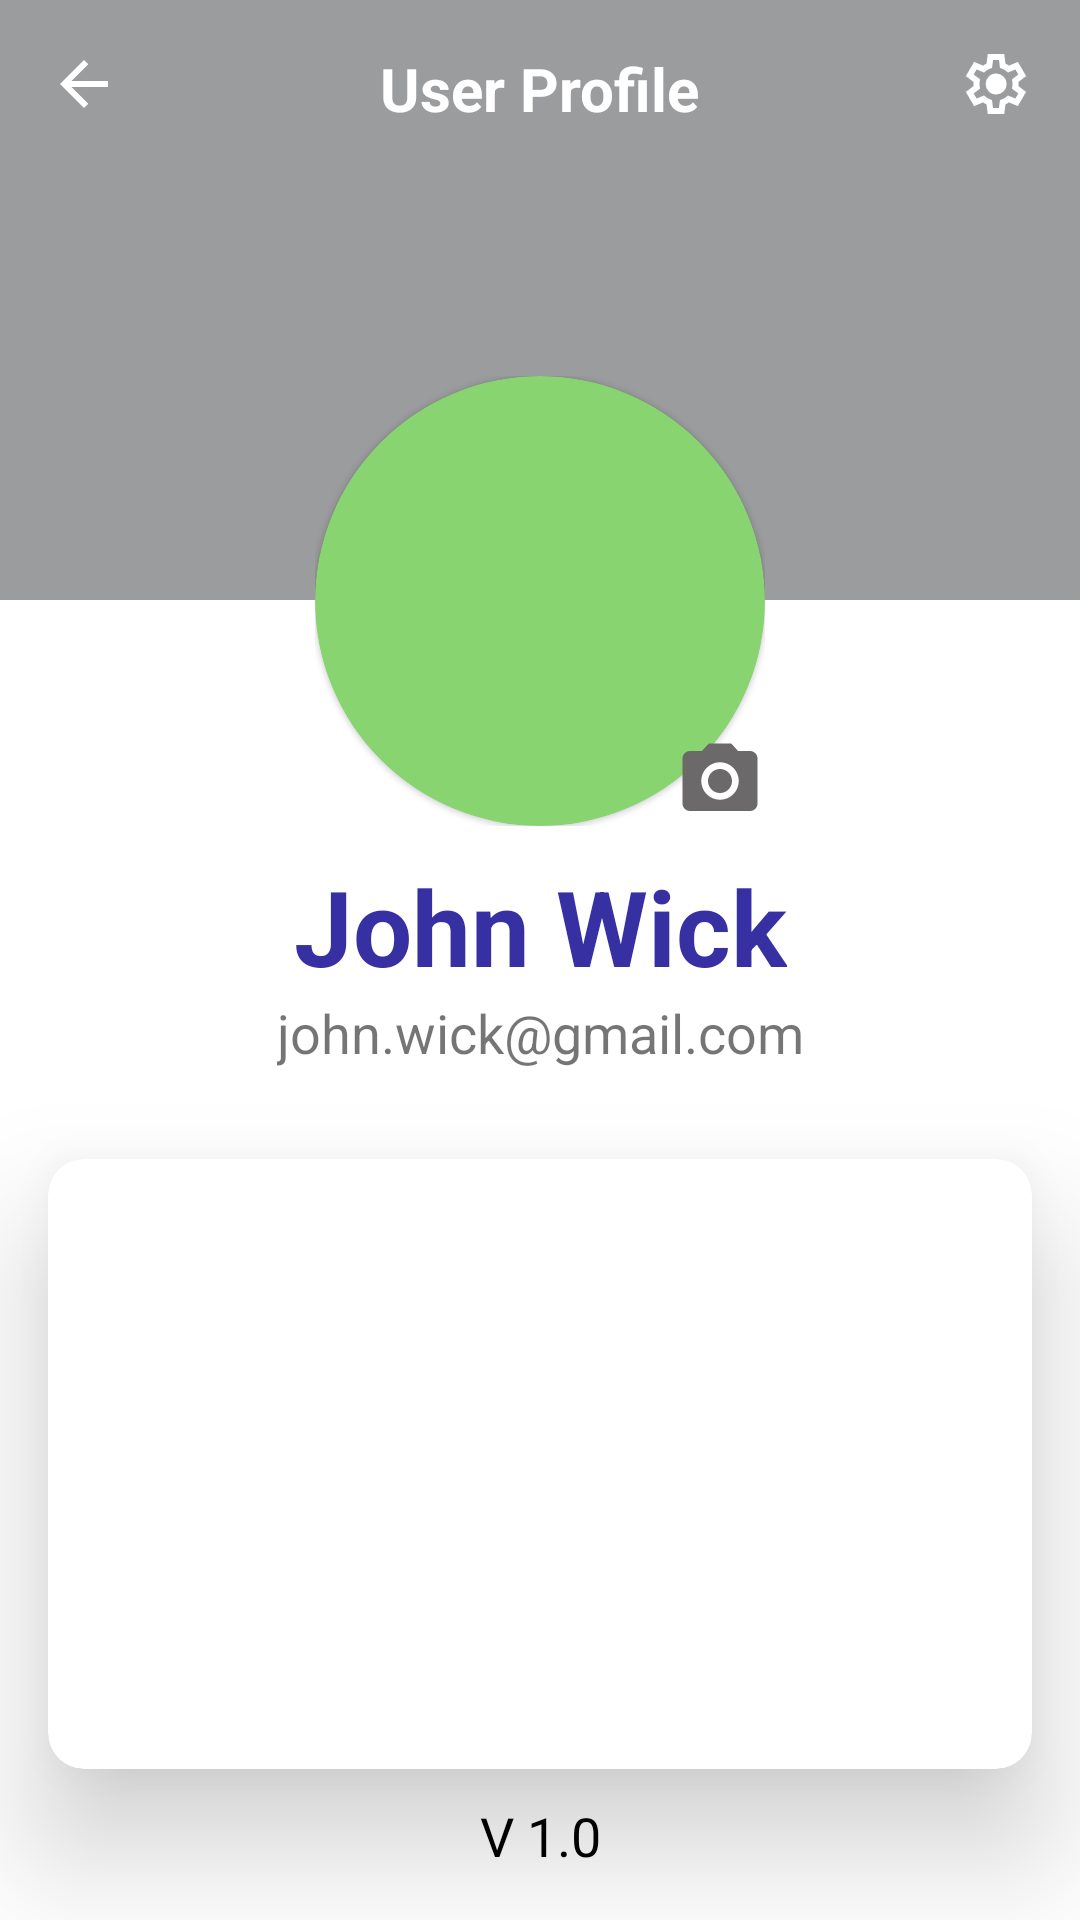

Named icons in this screenshot (1080x1920) and their centers, (x=x, y=y):
arrow back: (x=84, y=84)
camera: (x=716, y=773)
settings: (x=996, y=84)
